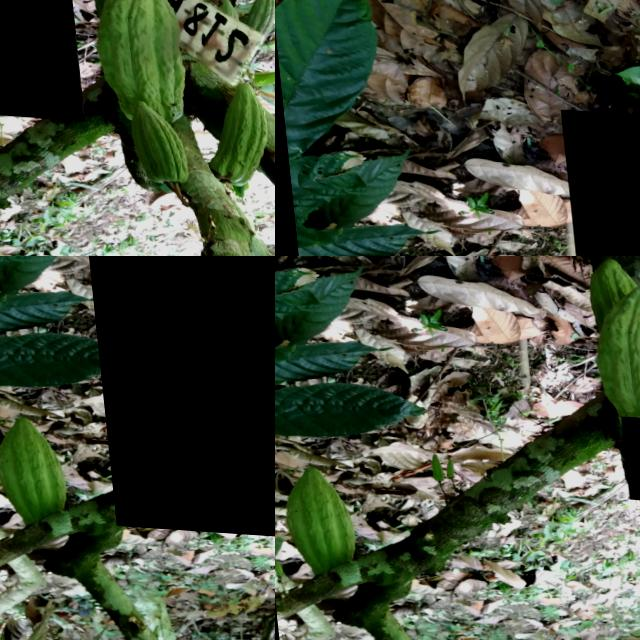Monilia: (0, 0, 77, 116)
Sana: (75, 256, 275, 537), (404, 75, 601, 256), (582, 276, 640, 429), (275, 462, 350, 577), (582, 258, 628, 312), (614, 411, 640, 497), (433, 450, 452, 477), (423, 452, 435, 477)
